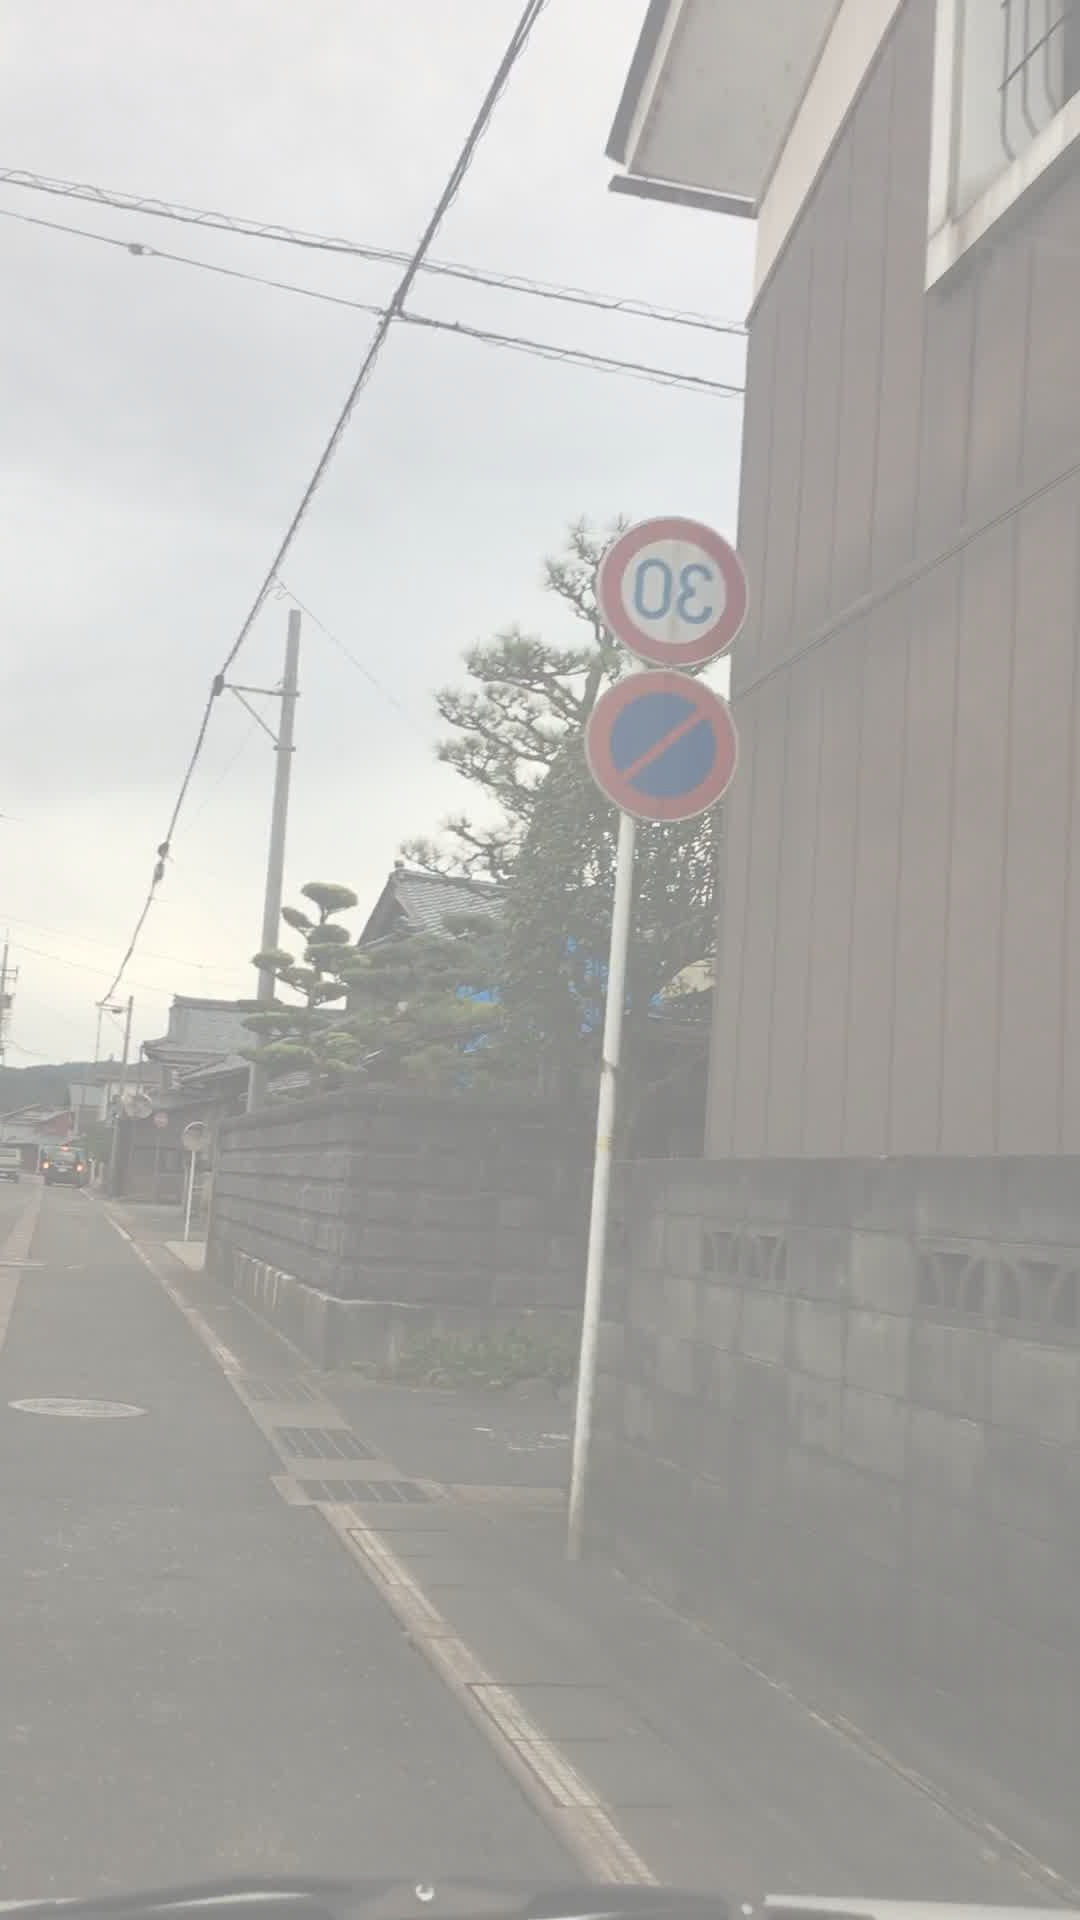Prohibition_sign: (566, 666, 748, 822)
Speed_sign: (588, 506, 766, 674)
